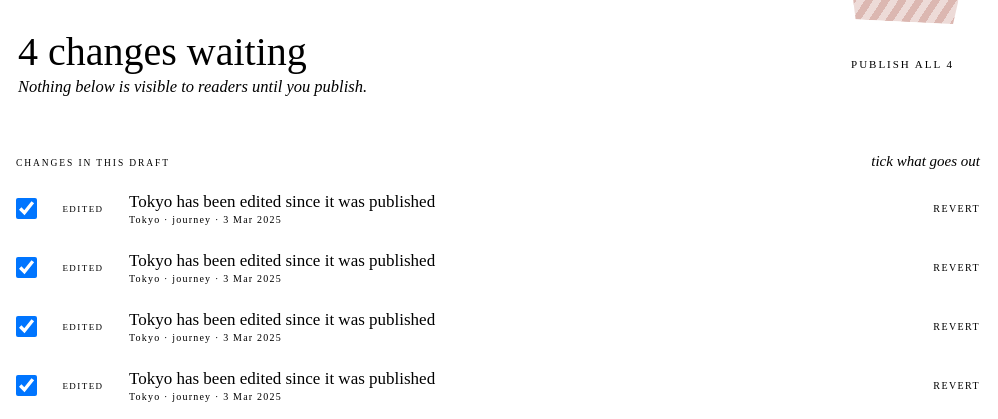
Test case: PublishSelection › goes inert and reads "0 of 4" once every box is cleared
Click the 1st checkbox.
click(26, 208)  # box [16,198,37,219]
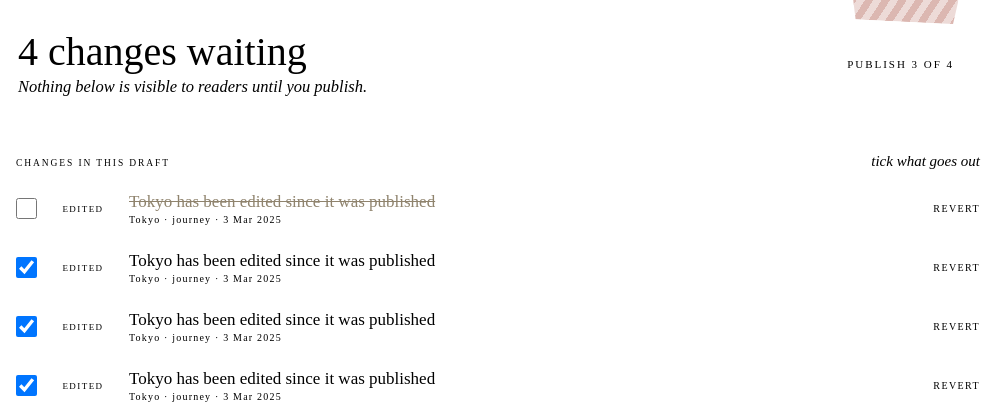
Click the 2nd checkbox.
click(26, 268)  # box [16,257,37,278]
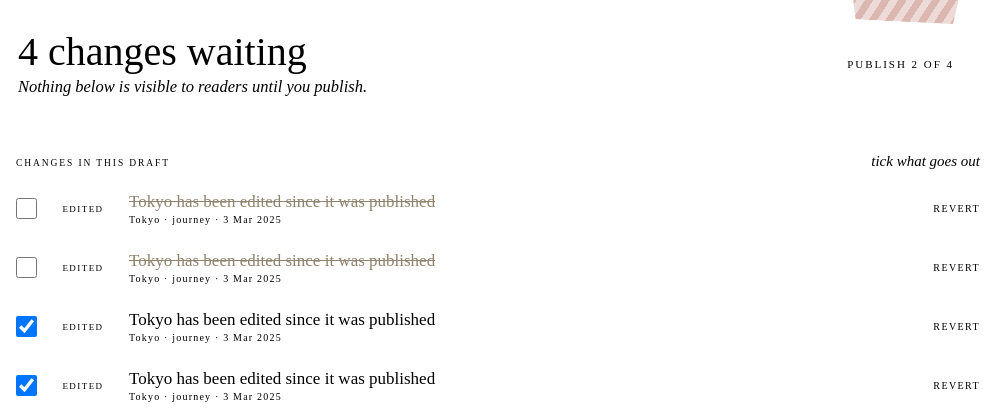
Click the 3rd checkbox.
click(26, 326)  # box [16,316,37,337]
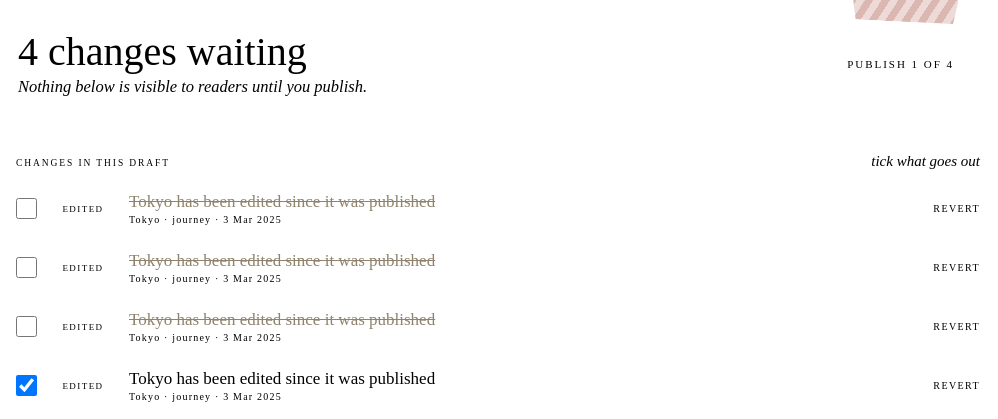
Click the 4th checkbox.
click(26, 386)  # box [16,375,37,396]
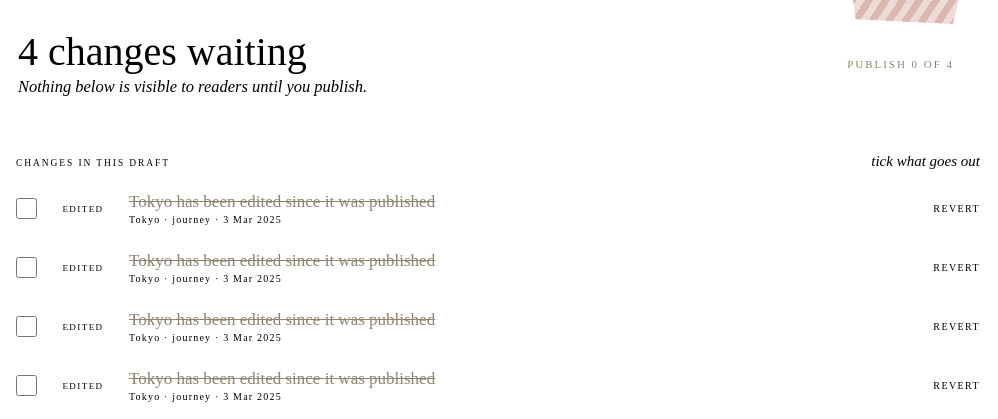
Expected: the button "Publish 0 of 4" is shown, [823,46,978,80]
Expected: the button "Publish 0 of 4" is disabled, [823,46,978,80]
